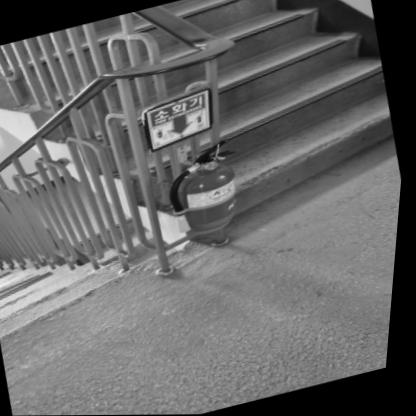FE: (159, 136, 252, 241)
